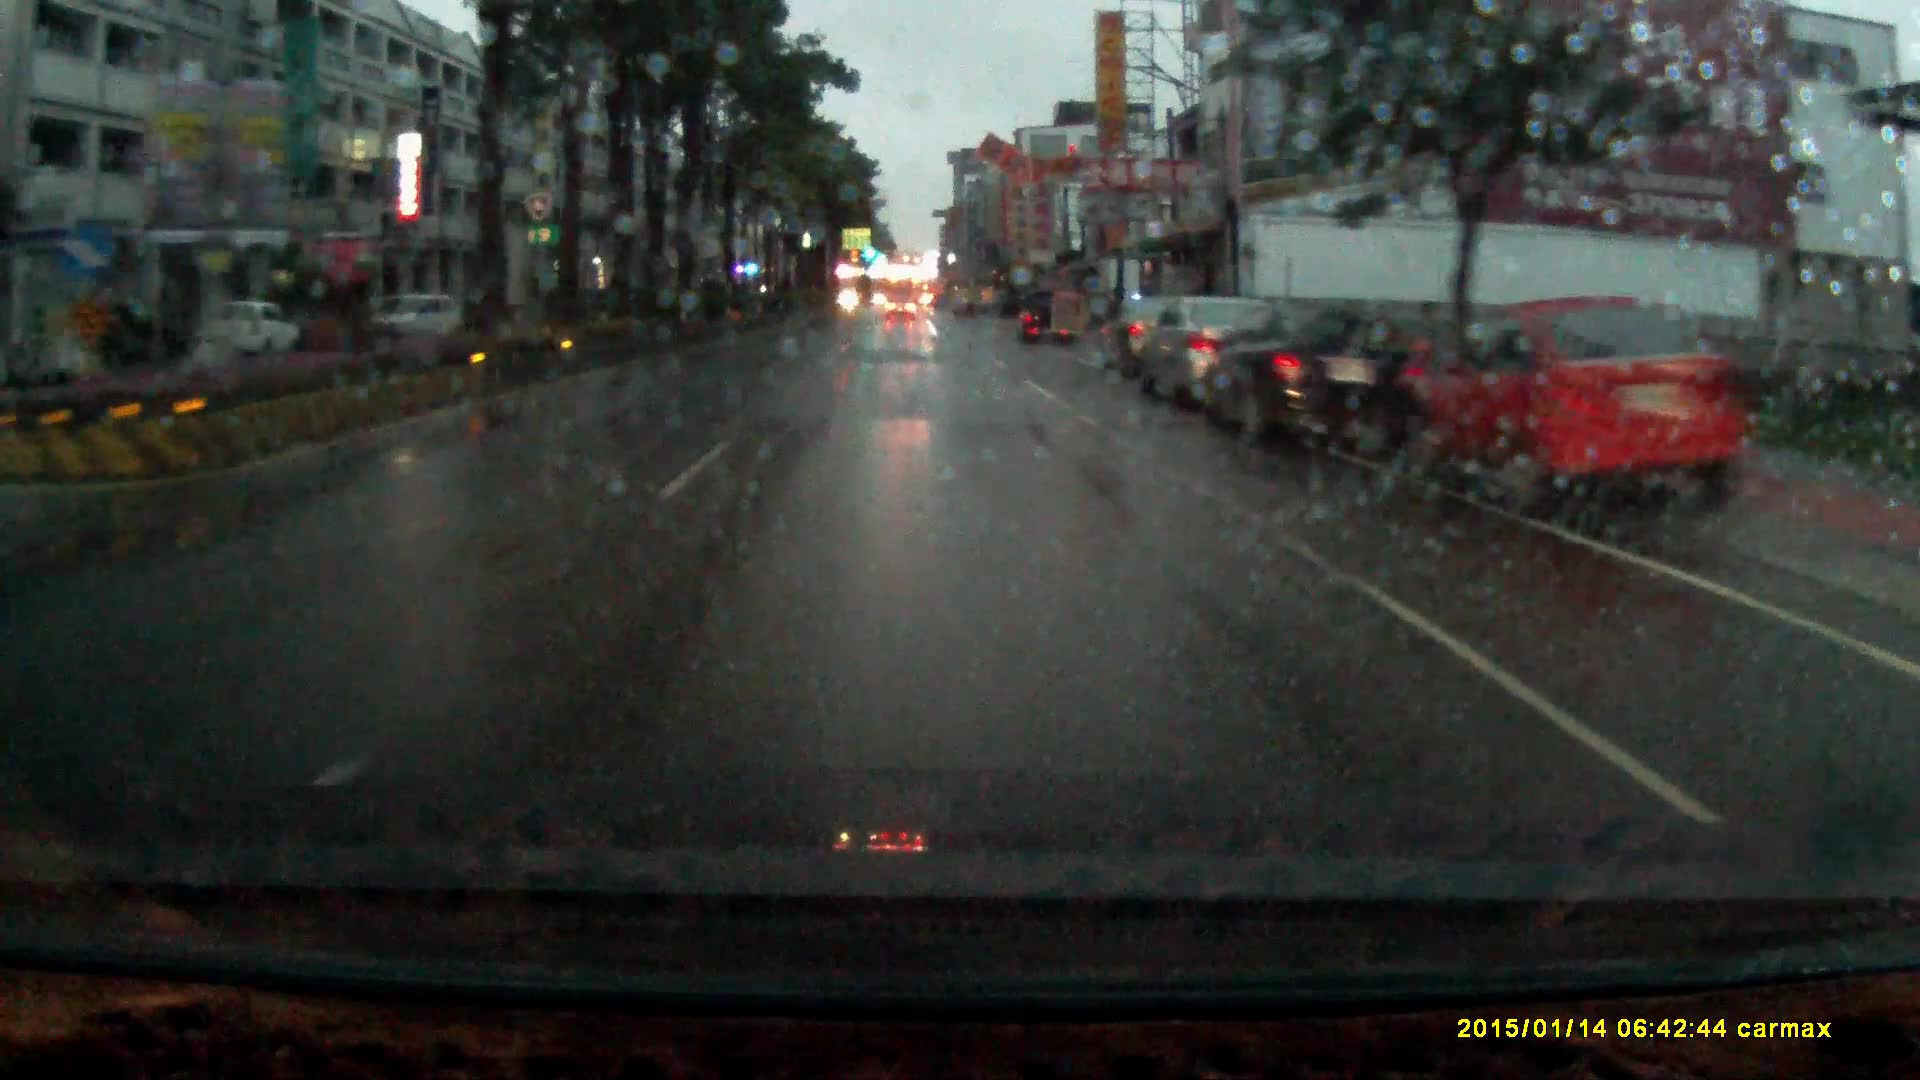vehicle: (1423, 295, 1763, 524), (1200, 301, 1429, 452), (1137, 295, 1280, 398), (355, 291, 465, 345), (1096, 298, 1172, 371), (208, 301, 293, 355), (1010, 286, 1077, 349), (886, 293, 916, 323)
